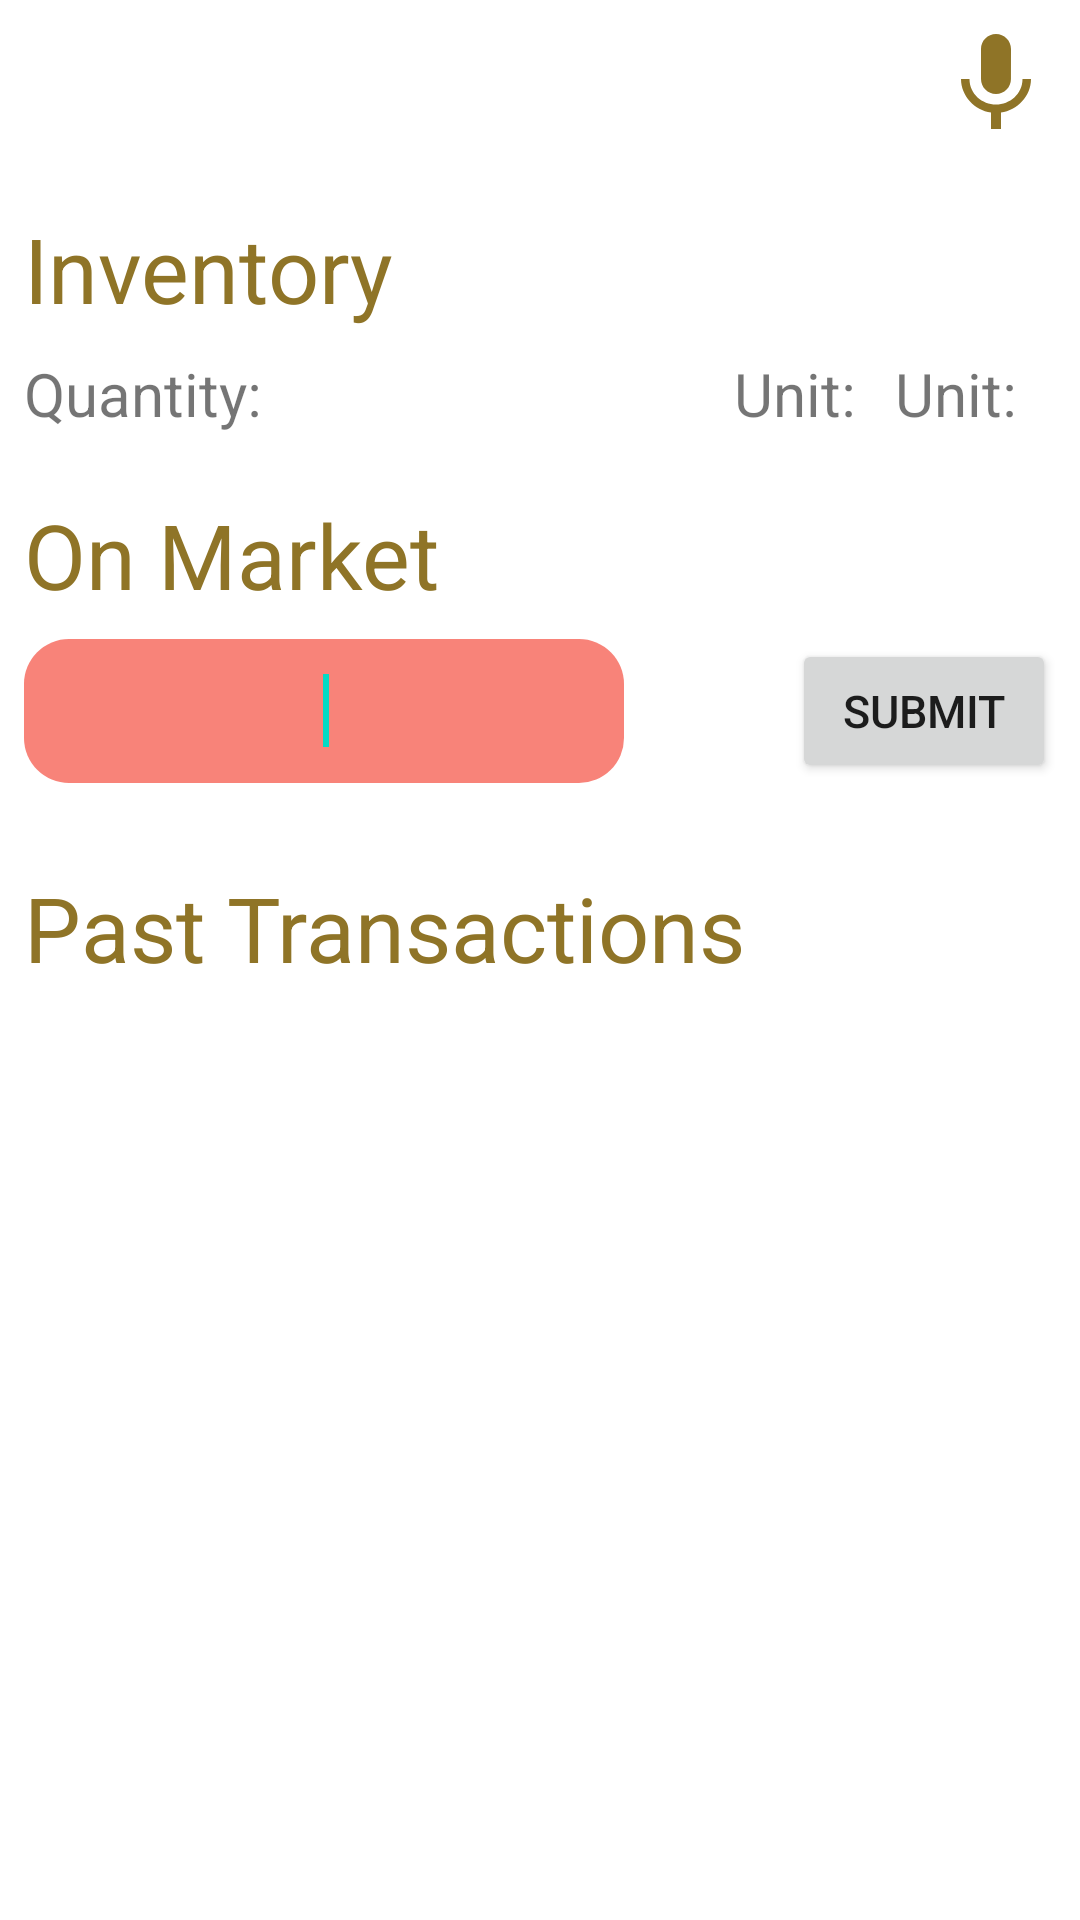

Where to tap for icons on this 1080w x 1920h app screen, as (x=x, y=y):
mic: (x=996, y=81)
